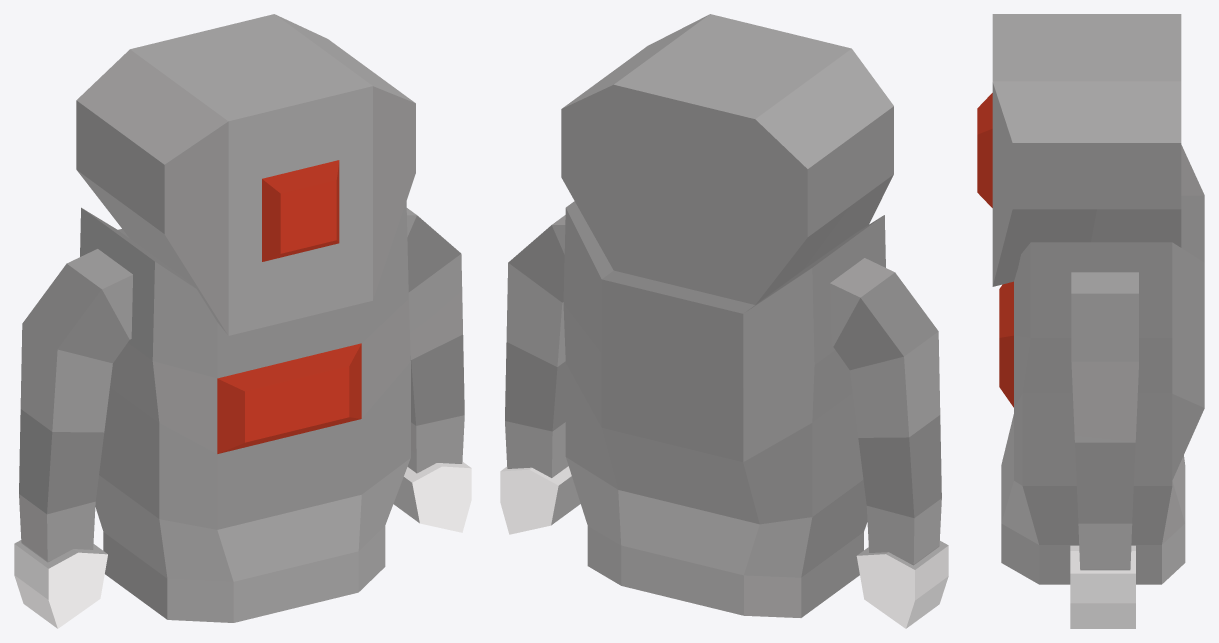
Rendered from bot.glb.
3 views of the same model, side by side, from view 1: azimuth 30°, elevation 25°; view 2: azimuth 150°, elevation 25°; view 3: azimuth 270°, elevation 25° (orthographic). The views are drawn at different scales.
Parts seen in each view (by area): view 1: bot; view 2: bot; view 3: bot.
Boxes of the visible parts, box(x1,y1,x2,y2) form: bot: box(14, 14, 471, 628); bot: box(500, 14, 948, 628); bot: box(977, 14, 1204, 628).
Bounding box in the file's own units: 0.9241 × 1.06 × 0.4495.
